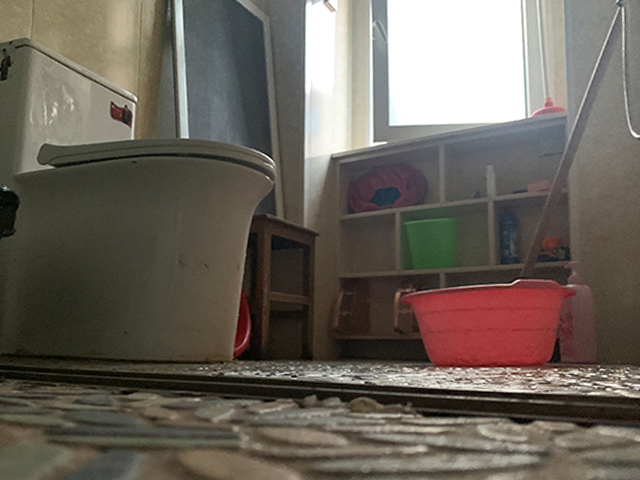closestool: (1, 37, 277, 366)
stool: (248, 213, 321, 360)
